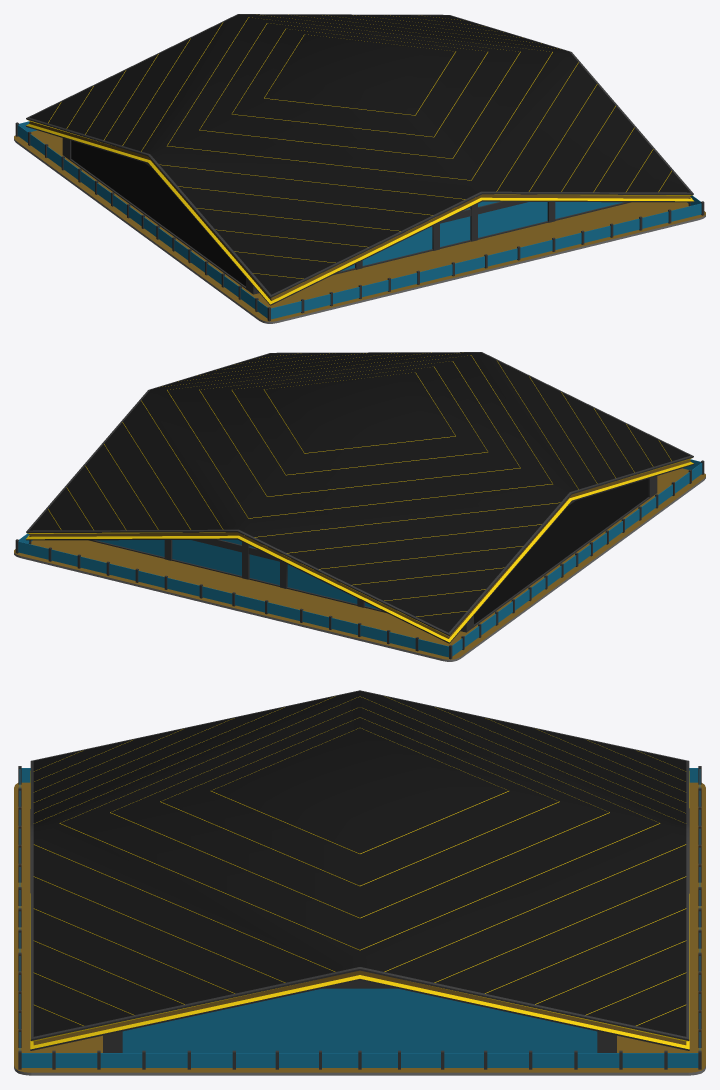
Rendered from SM_MK10_Building_Roof_001.fbx.
The picture shows the model from 3 angles, top to bottom: view 1: azimuth 30°, elevation 25°; view 2: azimuth 150°, elevation 25°; view 3: azimuth 270°, elevation 25°; orthographic projection. The views are drawn at different scales.
Visible parts, largest first — view 1: SM_MK10_Building_Roof_001; view 2: SM_MK10_Building_Roof_001; view 3: SM_MK10_Building_Roof_001.
Boxes of the visible parts, x1,y1,x2,y2 form: SM_MK10_Building_Roof_001: (14,14,705,323); SM_MK10_Building_Roof_001: (14,352,705,661); SM_MK10_Building_Roof_001: (14,690,705,1075).
Bounding box in the file's own units: 2100 × 500 × 2100.
